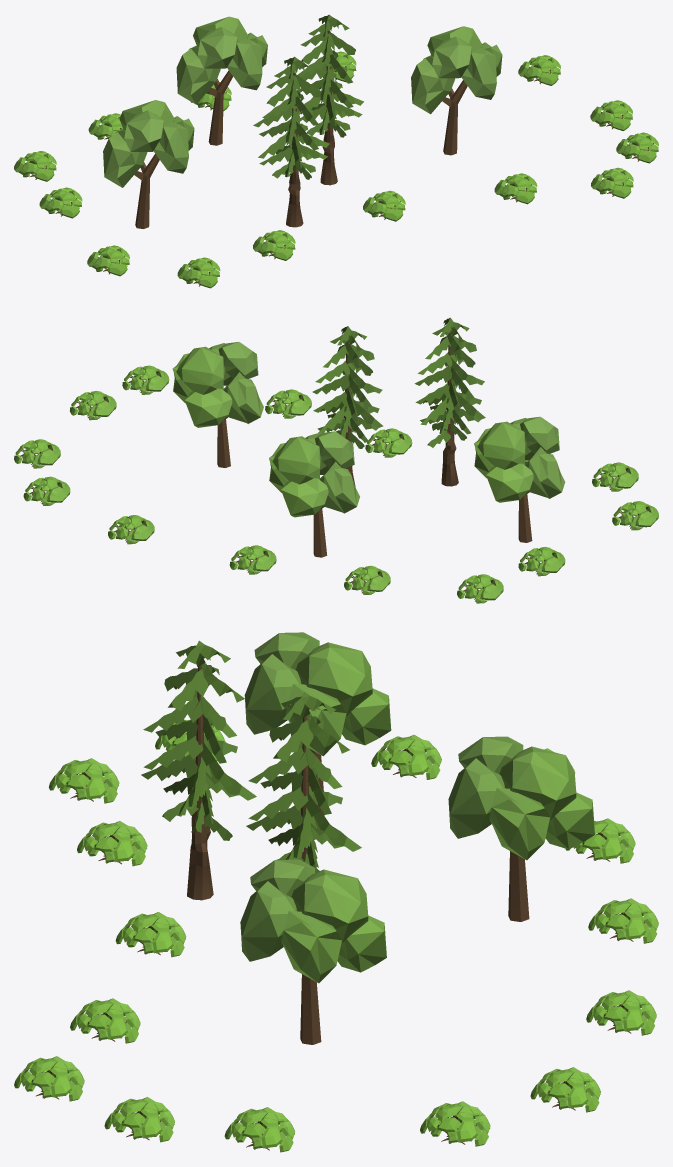
The model's file is TreeGroup 1.fbx.
3 views of the same model, one above another, from view 1: azimuth 30°, elevation 25°; view 2: azimuth 150°, elevation 25°; view 3: azimuth 270°, elevation 25° (orthographic). The views are drawn at different scales.
Visible parts, largest first — view 1: TreeGroup__1__mesh_mesh; view 2: TreeGroup__1__mesh_mesh; view 3: TreeGroup__1__mesh_mesh.
Part boxes in pixels (box(x1,y1,x2,y2)): TreeGroup__1__mesh_mesh: box(14, 14, 658, 288); TreeGroup__1__mesh_mesh: box(14, 317, 658, 603); TreeGroup__1__mesh_mesh: box(14, 632, 658, 1152).
Bounding box in the file's own units: 4340 × 1244 × 2824.
